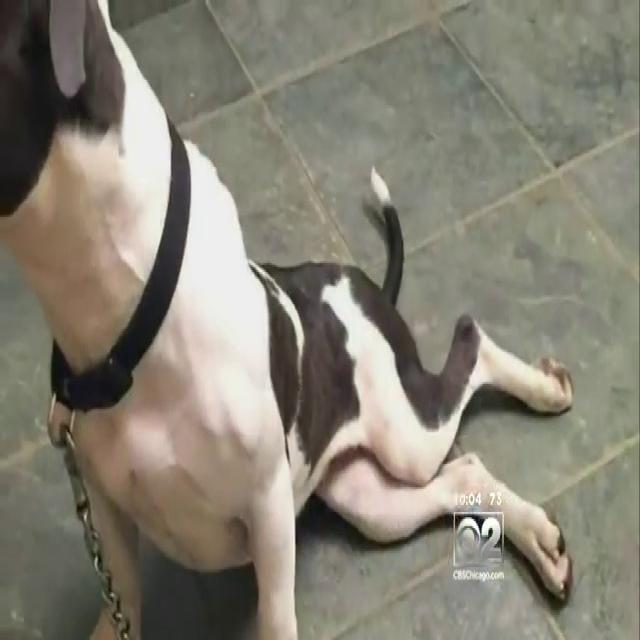normal_animals: (3, 3, 578, 633)
